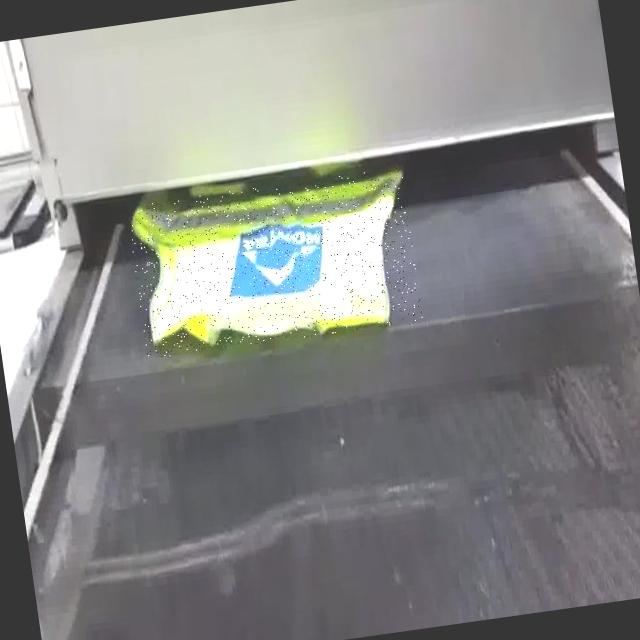vest: (126, 168, 423, 360)
